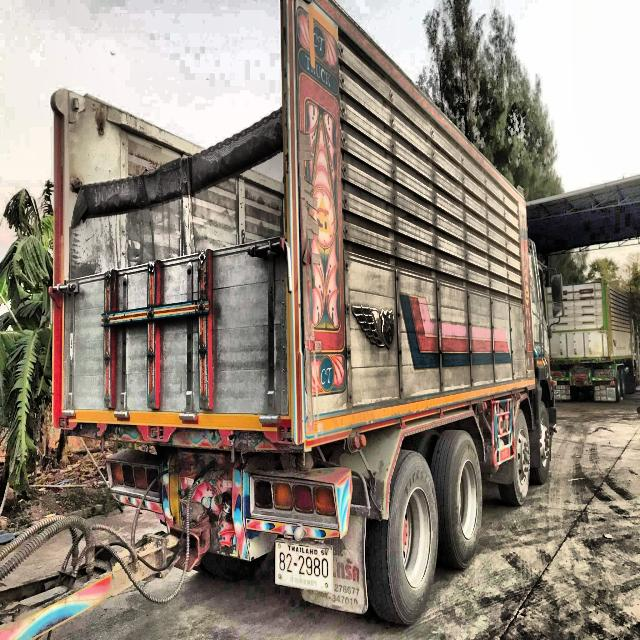trailer: (31, 0, 560, 640)
